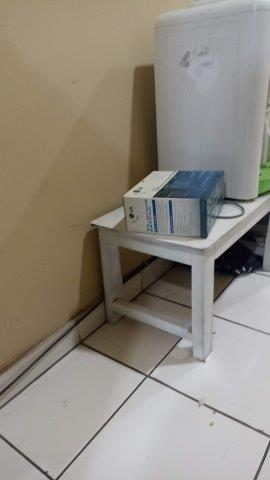kardus: (122, 170, 224, 237)
